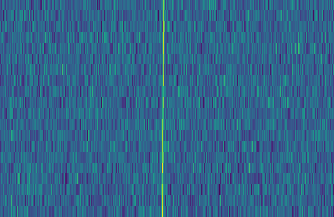signal: (156, 0, 167, 217)
